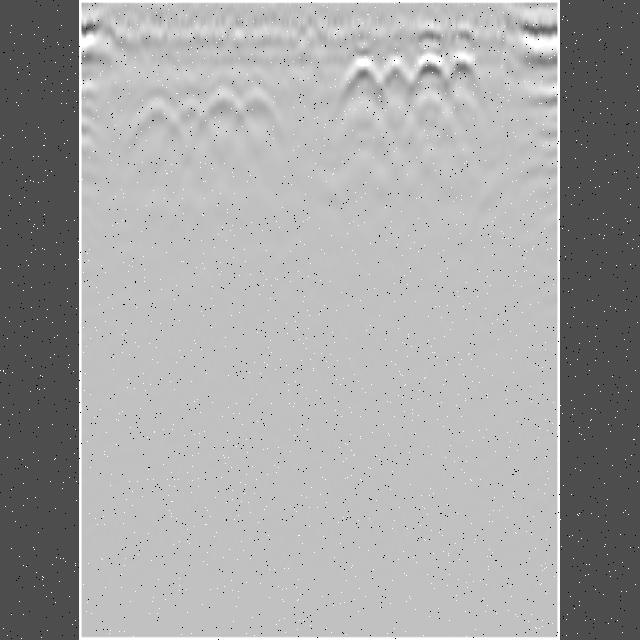hyperbola: (134, 86, 176, 138), (206, 82, 248, 125), (377, 49, 417, 93), (340, 54, 380, 98), (448, 50, 487, 94), (412, 50, 450, 92), (236, 82, 280, 118), (170, 94, 208, 126)
